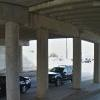Bridge: (6, 5, 95, 66)
